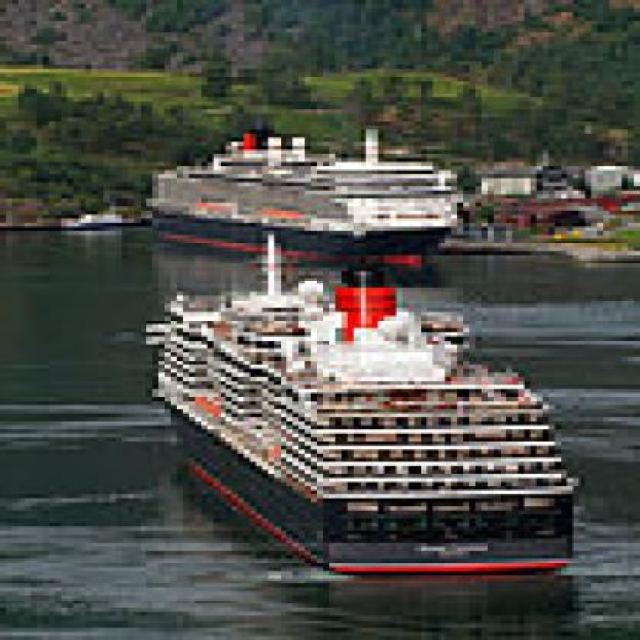cruise: (130, 232, 574, 576), (135, 119, 470, 273)
